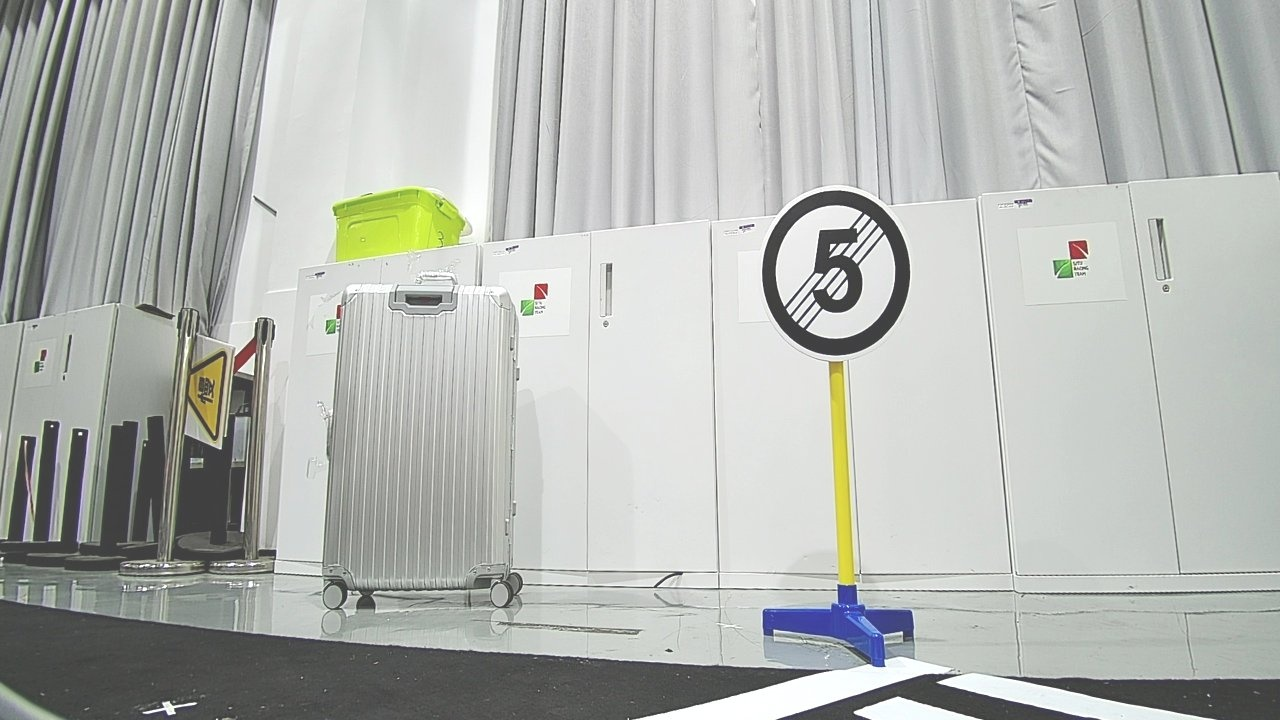speed_unlimited: (760, 182, 917, 360)
